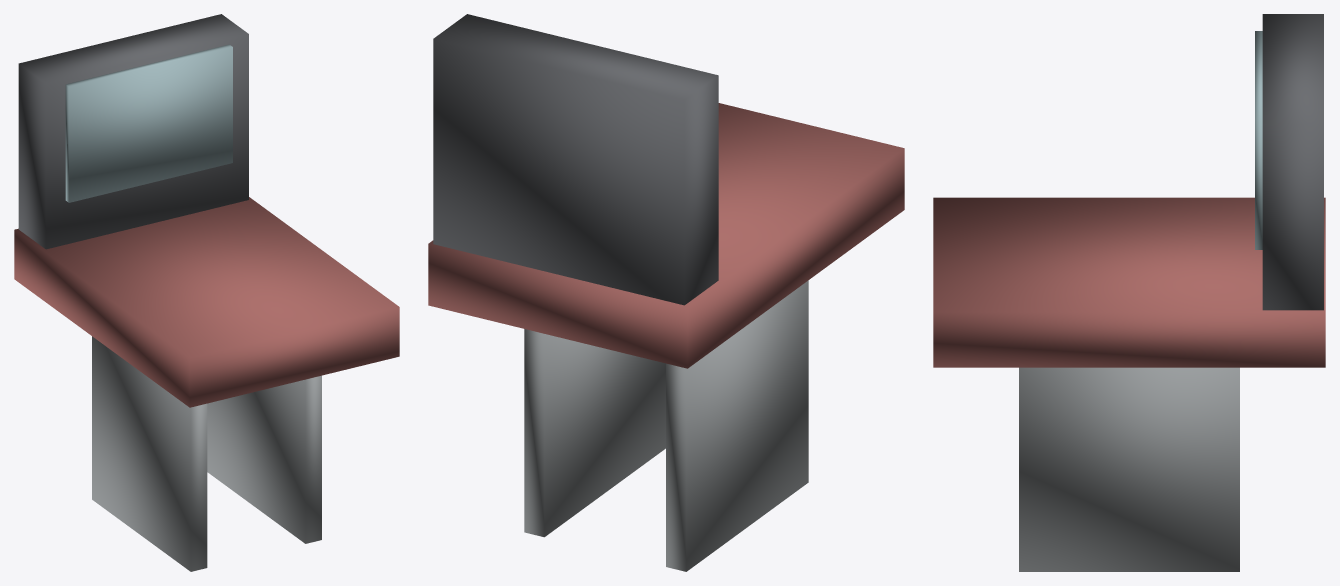
Rendered from pinball_machine__wide.glb.
3 renders of one model, left to right at view 1: azimuth 30°, elevation 25°; view 2: azimuth 150°, elevation 25°; view 3: azimuth 270°, elevation 25°, orthographic. The views are drawn at different scales.
Parts seen in each view (by area): view 1: world; view 2: world; view 3: world.
Part boxes in pixels (bbox=[...]): world: bbox=[14, 14, 399, 571]; world: bbox=[428, 14, 904, 571]; world: bbox=[933, 14, 1325, 571].
Bounding box in the file's own units: 0.7936 × 1.51 × 1.15.
